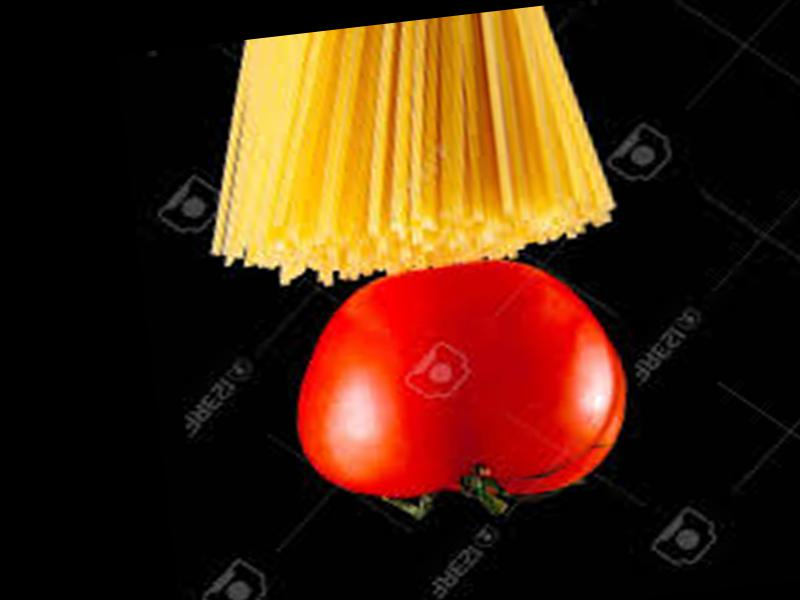Tomato: (282, 245, 631, 520)
